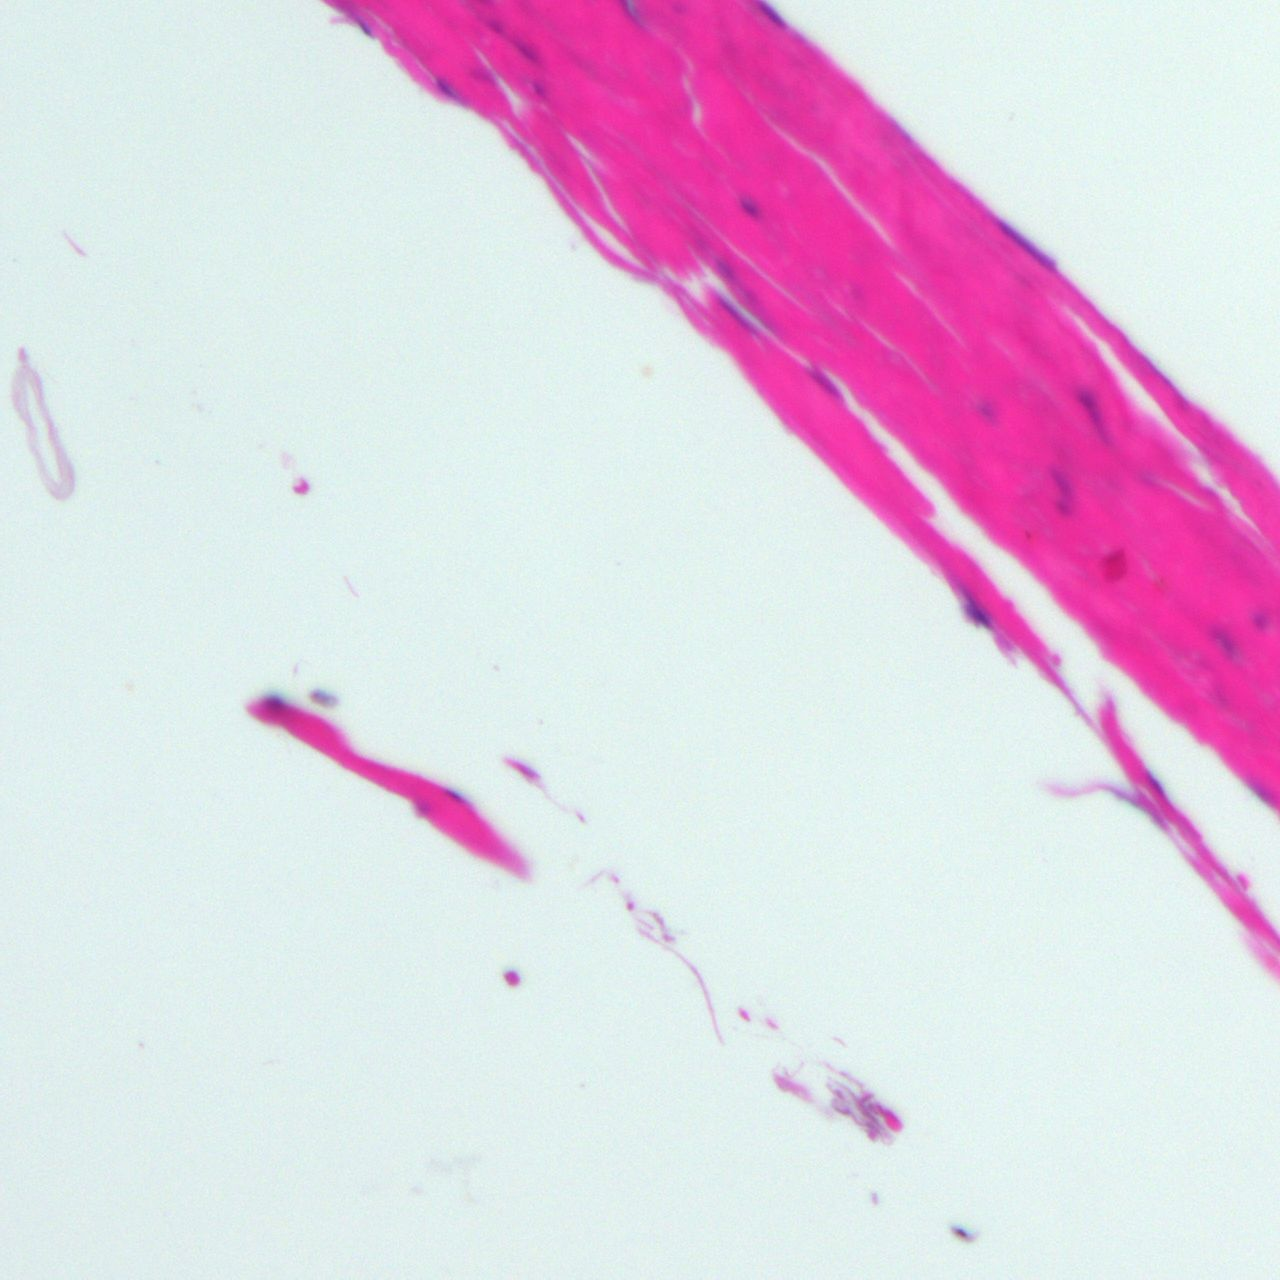nucleus-HE: (990, 213, 1073, 284), (1065, 382, 1126, 451), (1049, 462, 1071, 518), (431, 72, 464, 105), (733, 192, 760, 219)
